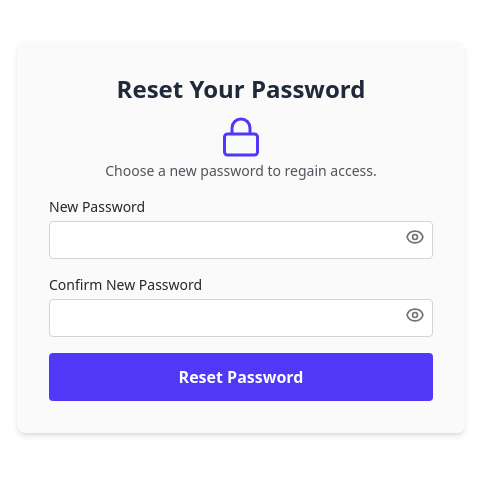
it: ResetPassword › shows error if reset fails
The image size is (483, 492).
In the password field labelled "New Password": coordinates (241, 240) [49,221,433,259], type "Password123!"
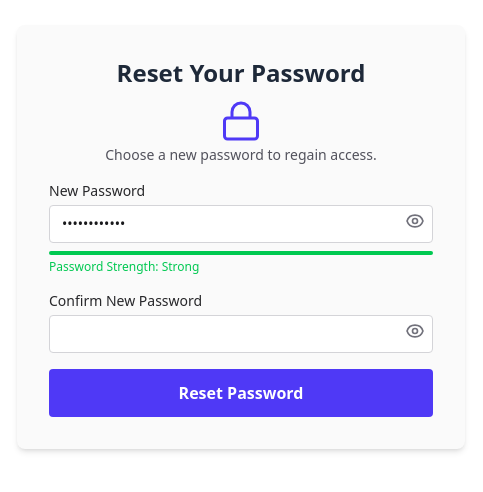
In the password field labelled "Confirm New Password": coordinates (241, 334) [49,315,433,353], type "Password123!"
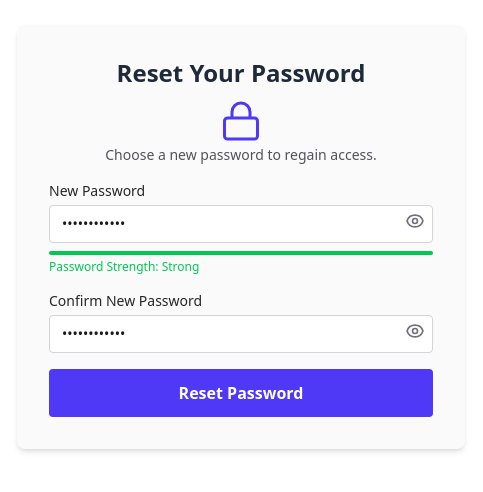
Click the button "Reset Password": coordinates (241, 393) [49,369,433,417]
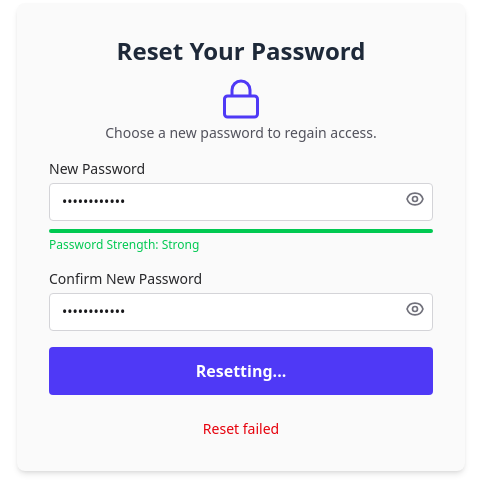
Now the text "Reset failed" is shown, box [203,419,279,438]
